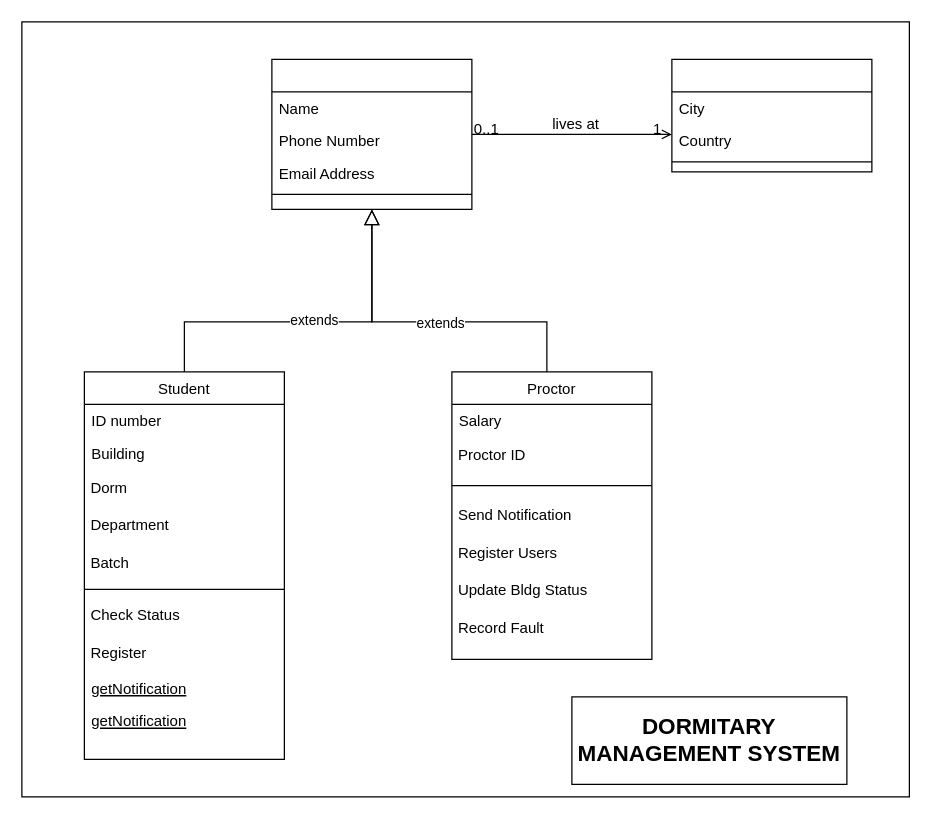
Image size: 931x819. Some labels were removed from this diagram. The box of each missing label's shape, as (x1, y1, x2, y2) in pixels:
Address: (671, 58, 872, 172)
Person: (271, 58, 472, 209)
